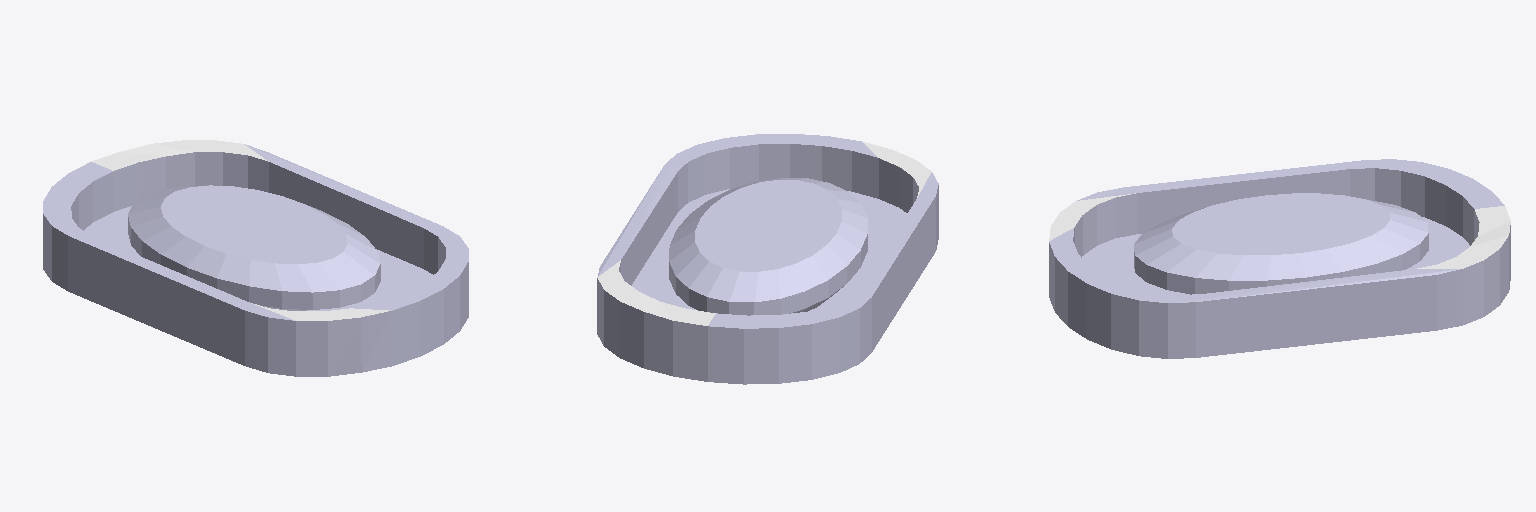
File: jabon.obj
3 renders of one model, left to right at view 1: azimuth 30°, elevation 25°; view 2: azimuth 150°, elevation 25°; view 3: azimuth 270°, elevation 25°, orthographic.
Visible parts, largest first — view 1: soap2:Mesh2 soap2:Model soap2:bu5e1 soap2:vyh5v1 soap2:polySurfa, soap2:Mesh1 soap2:Model soap2:bu5e1 soap2:nu6sb1 soap2:polySurfa; view 2: soap2:Mesh2 soap2:Model soap2:bu5e1 soap2:vyh5v1 soap2:polySurfa, soap2:Mesh1 soap2:Model soap2:bu5e1 soap2:nu6sb1 soap2:polySurfa; view 3: soap2:Mesh2 soap2:Model soap2:bu5e1 soap2:vyh5v1 soap2:polySurfa, soap2:Mesh1 soap2:Model soap2:bu5e1 soap2:nu6sb1 soap2:polySurfa.
Part boxes in pixels (x1,y1,x2,y2): soap2:Mesh2 soap2:Model soap2:bu5e1 soap2:vyh5v1 soap2:polySurfa: (43, 140, 468, 376); soap2:Mesh1 soap2:Model soap2:bu5e1 soap2:nu6sb1 soap2:polySurfa: (128, 185, 380, 310); soap2:Mesh2 soap2:Model soap2:bu5e1 soap2:vyh5v1 soap2:polySurfa: (597, 134, 938, 384); soap2:Mesh1 soap2:Model soap2:bu5e1 soap2:nu6sb1 soap2:polySurfa: (669, 178, 867, 315); soap2:Mesh2 soap2:Model soap2:bu5e1 soap2:vyh5v1 soap2:polySurfa: (1049, 159, 1510, 358); soap2:Mesh1 soap2:Model soap2:bu5e1 soap2:nu6sb1 soap2:polySurfa: (1134, 193, 1428, 294).
Size of the model in its own units: 0.6714 by 0.1344 by 0.9083.